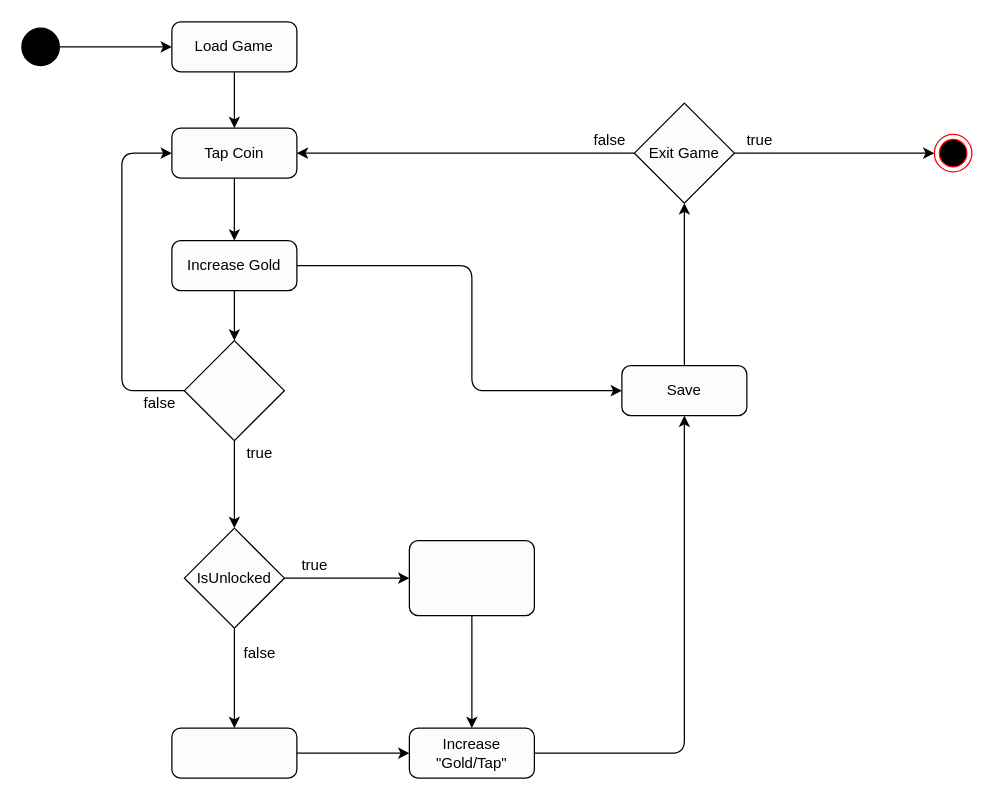
Image size: 994x800. Some labels were removed from this diagram. The centre of each missing label's shape, as x and y in pixels:
"Gold > Cost" belongs at pixel 233 390.
"Unlock Resource & Unlock Achievement" belongs at pixel 471 577.
"Upgrade Resource" belongs at pixel 234 752.
